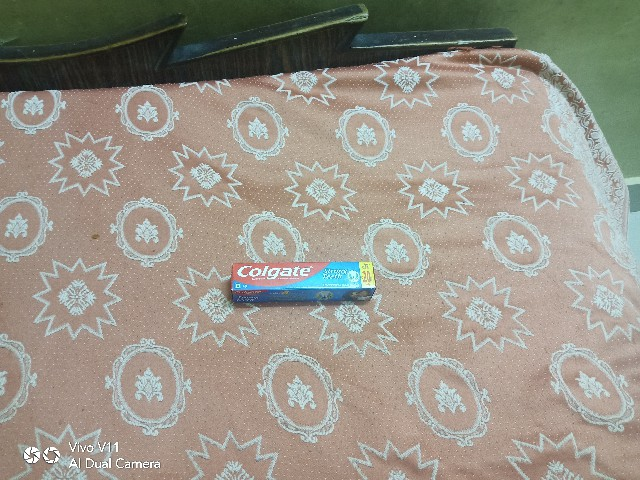colgatetoothpaste small: (218, 249, 419, 318)
